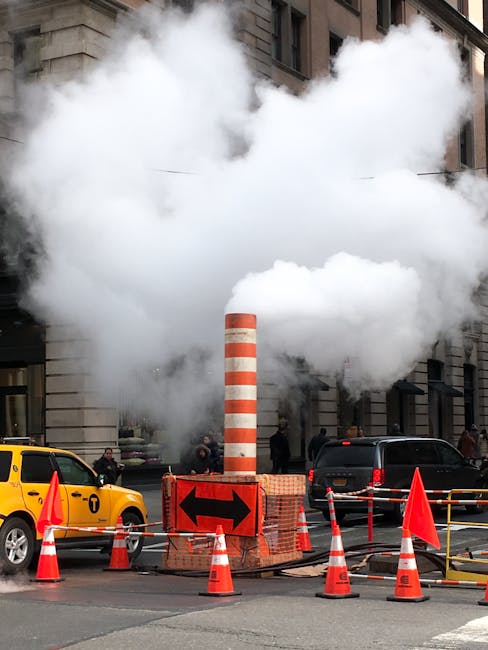traffic_cone: (399, 466, 441, 551), (315, 524, 360, 599), (386, 527, 430, 603), (198, 524, 242, 597), (35, 470, 65, 540), (30, 525, 65, 583), (102, 515, 133, 572), (295, 505, 314, 553), (477, 551, 488, 606), (477, 579, 488, 606)
